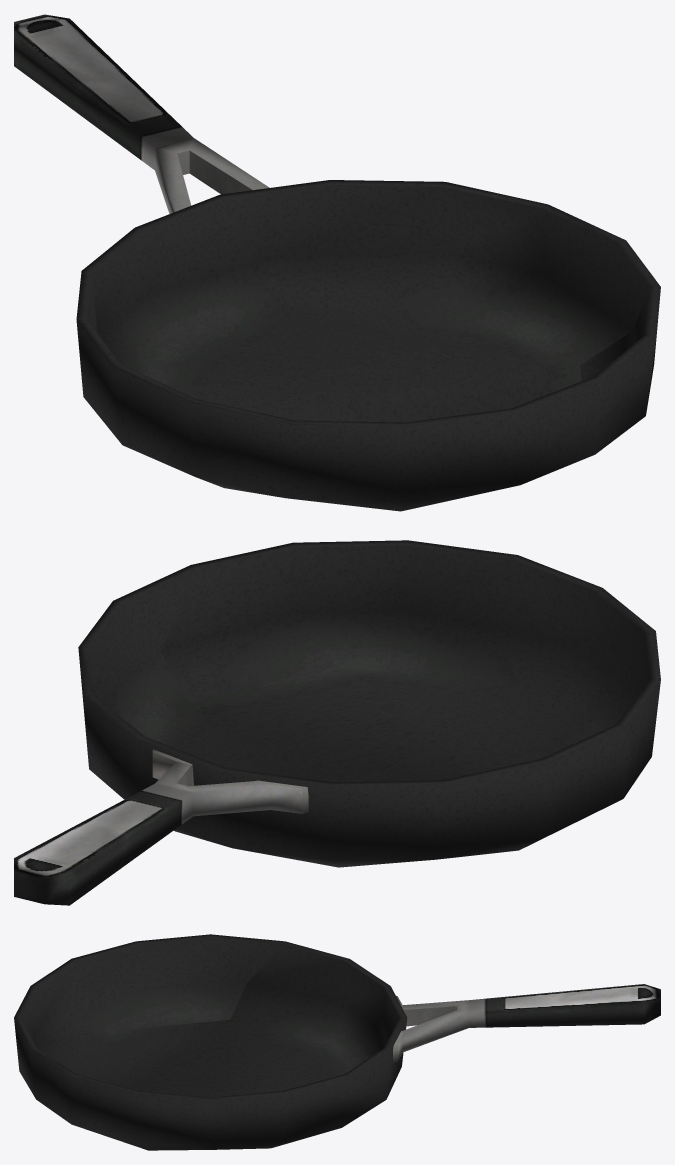
Rendered from Prop_Pot03.glb.
The picture shows the model from 3 angles, top to bottom: view 1: azimuth 30°, elevation 25°; view 2: azimuth 150°, elevation 25°; view 3: azimuth 270°, elevation 25°; orthographic projection. The views are drawn at different scales.
Parts seen in each view (by area): view 1: xiutz_pot_03; view 2: xiutz_pot_03; view 3: xiutz_pot_03.
Part boxes in pixels (<box>): xiutz_pot_03: <box>14,14,660,511</box>; xiutz_pot_03: <box>14,540,660,905</box>; xiutz_pot_03: <box>14,934,660,1150</box>.
Size of the model in its own units: 0.3746 by 0.0992 by 0.6162.
1 material, 1 textured.
